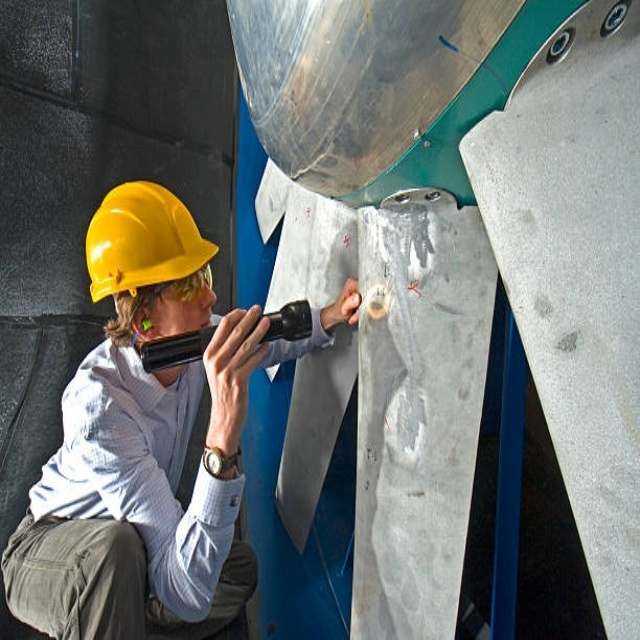Gafas: (148, 259, 215, 303)
Sin_guantes: (201, 306, 272, 442), (325, 278, 362, 332)
Sin_mascara: (193, 303, 213, 329)
